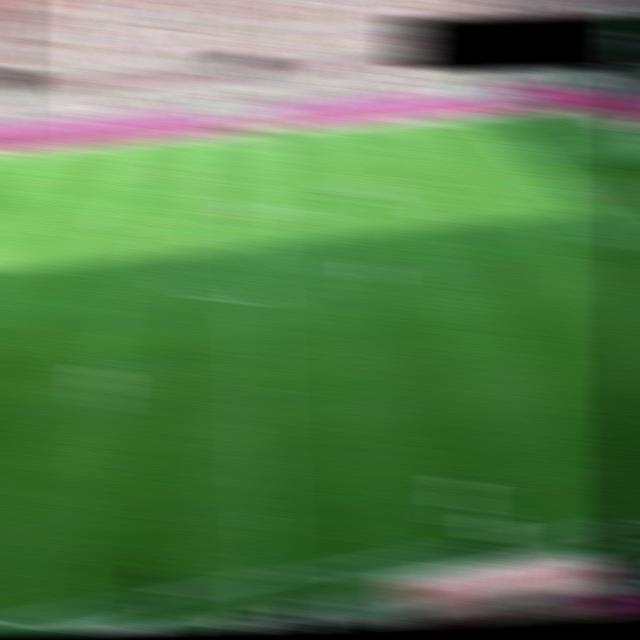bigarea_top_inner: (499, 140, 537, 156)
bigarea_top_outter: (606, 130, 640, 146)
bottom_arc_area_intersection: (606, 234, 640, 256)
corner: (556, 101, 598, 118)
halfcircle_bottom: (233, 286, 277, 313)
halfcircle_top: (233, 200, 269, 215)
midline_bottom_intersection: (239, 560, 298, 597)
midline_top_intersection: (228, 128, 270, 145)
smallarea_top_inner: (616, 162, 640, 178)
top_arc_area_intersection: (538, 175, 577, 192)
